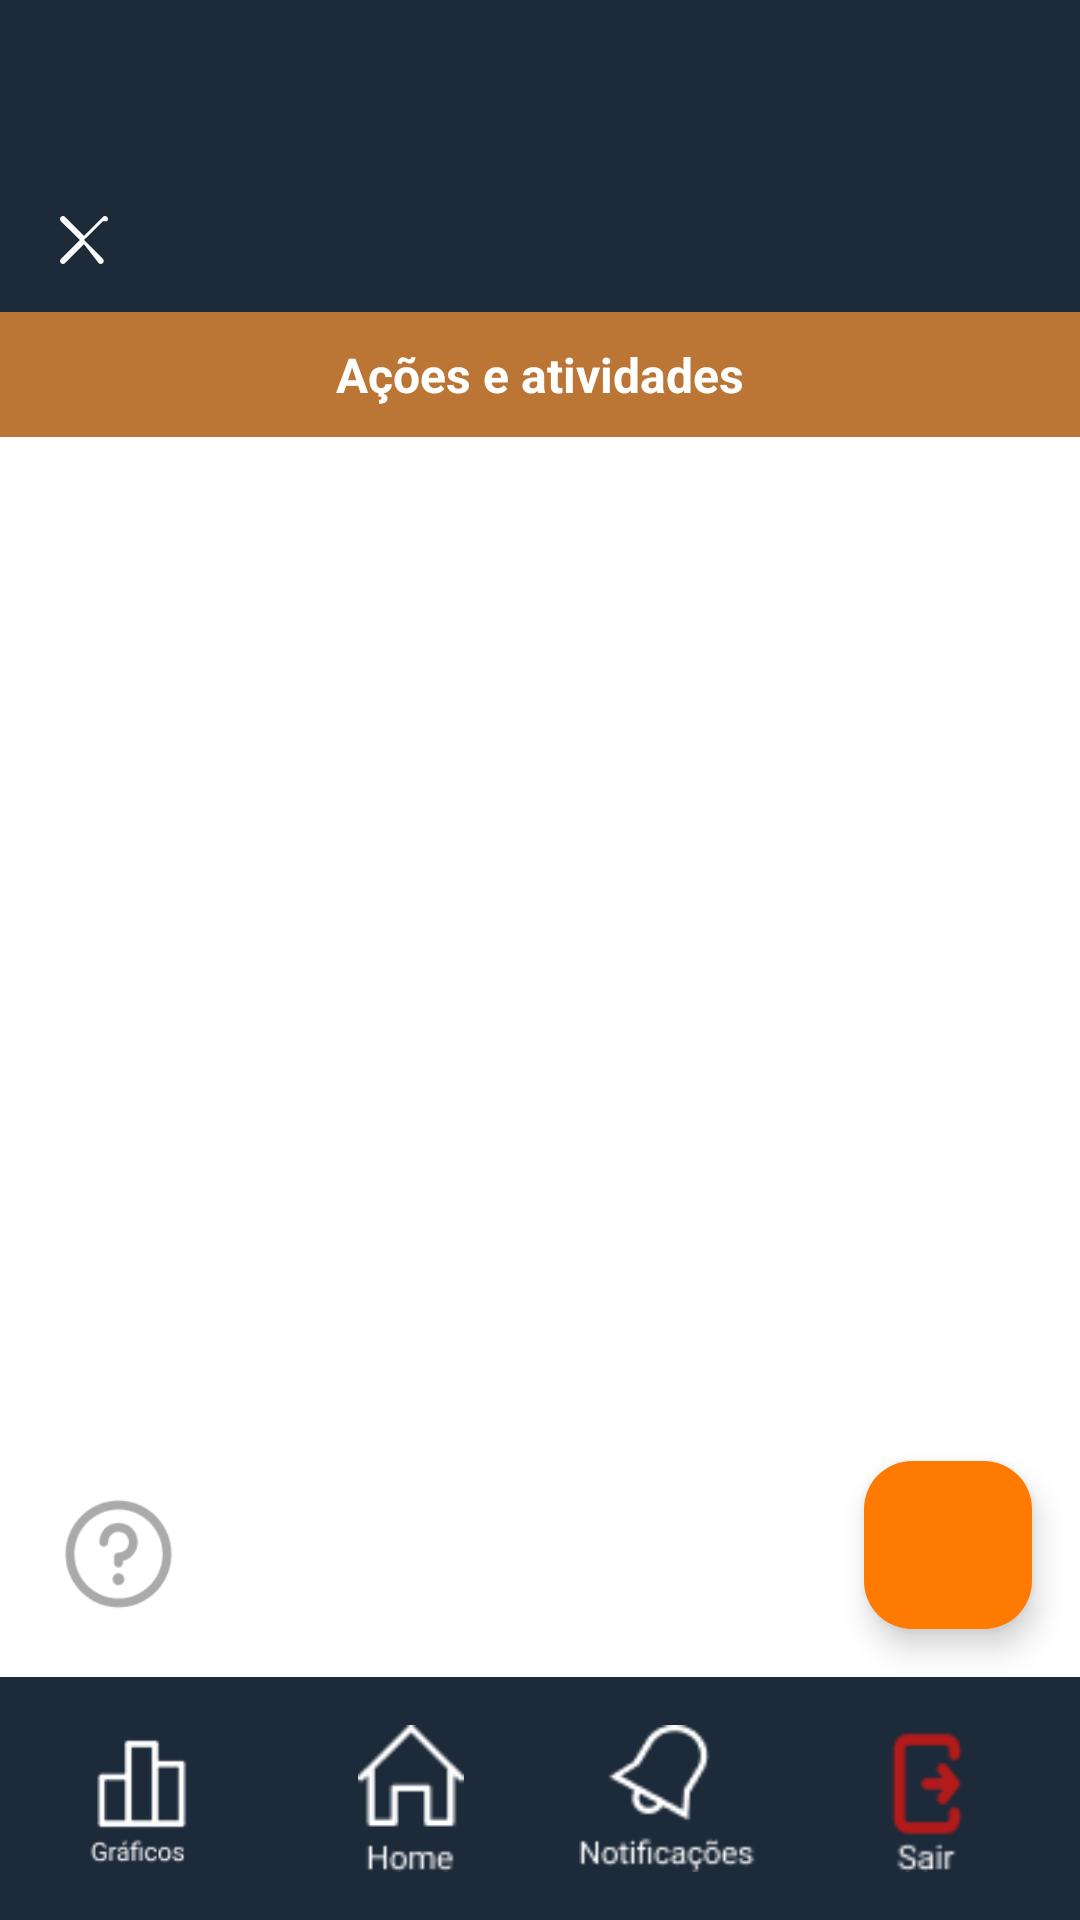

Locate icon controls on the screen. Image size 1080px×1920px, boxes as (x1, y1, x2, y2).
Ajuda: (65, 1500, 172, 1608)
